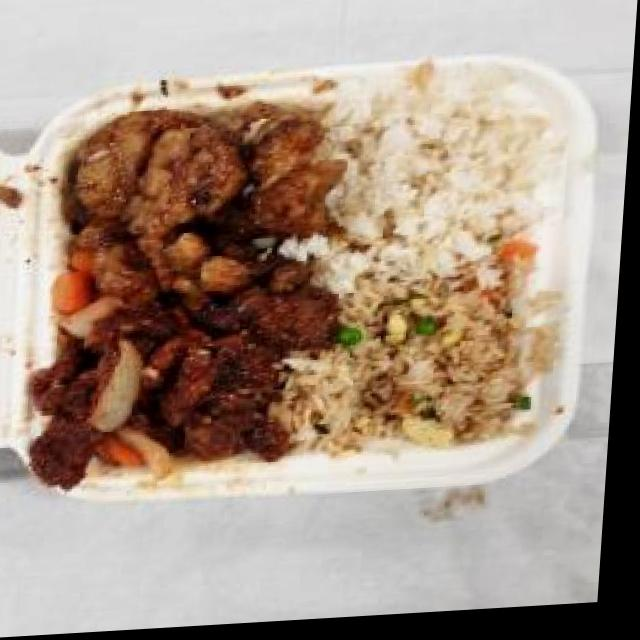Beijing Beef: (21, 285, 339, 498)
Fried Rice: (295, 281, 562, 466)
The Original Orange Chicken: (53, 102, 342, 318)
White Steamed Rice: (318, 81, 572, 277)
